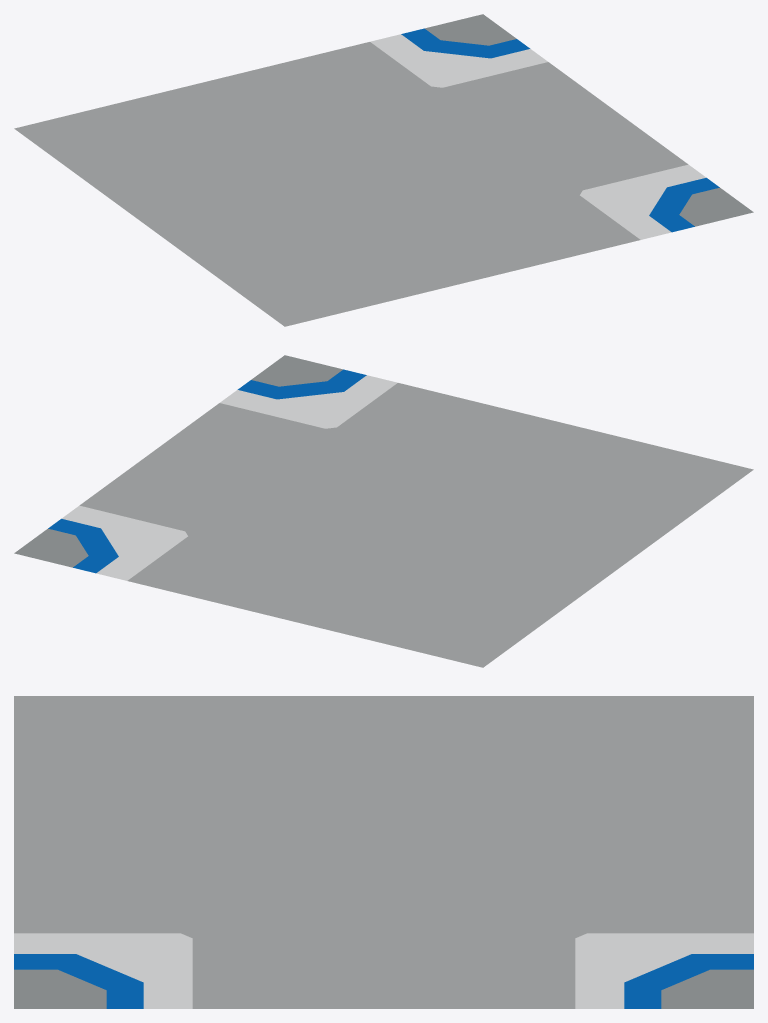
The model's file is Ceiling_type_A_027.fbx.
The picture shows the model from 3 angles, top to bottom: view 1: azimuth 30°, elevation 25°; view 2: azimuth 150°, elevation 25°; view 3: azimuth 270°, elevation 25°; orthographic projection. The views are drawn at different scales.
Parts seen in each view (by area): view 1: Ceiling_type_A_027; view 2: Ceiling_type_A_027; view 3: Ceiling_type_A_027.
Boxes of the visible parts, x1,y1,x2,y2 form: Ceiling_type_A_027: [14, 14, 753, 326]; Ceiling_type_A_027: [14, 355, 753, 667]; Ceiling_type_A_027: [14, 696, 753, 1008].
Bounding box in the file's own units: 400 × 400 × 6.18.
